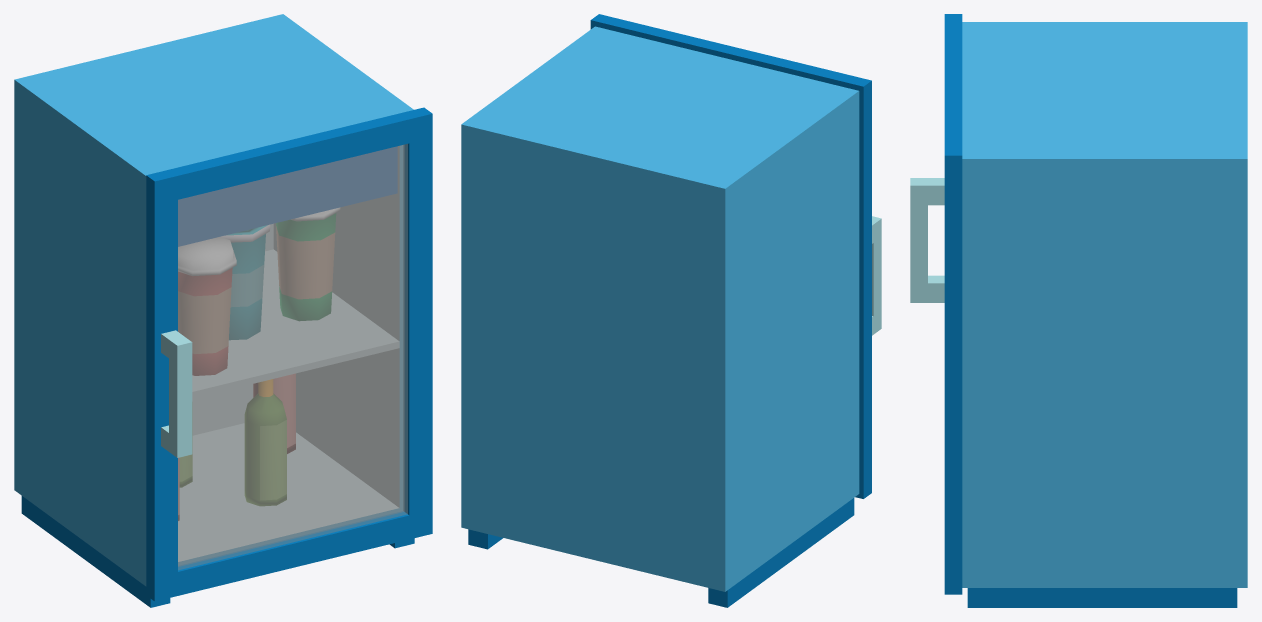
File: Glass Fridge lv1.fbx
3 renders of one model, left to right at view 1: azimuth 30°, elevation 25°; view 2: azimuth 150°, elevation 25°; view 3: azimuth 270°, elevation 25°, orthographic. The views are drawn at different scales.
Visible parts, largest first — view 1: Glass_Fridge_lv1; view 2: Glass_Fridge_lv1; view 3: Glass_Fridge_lv1.
Boxes of the visible parts, bbox=[...] form: Glass_Fridge_lv1: bbox=[14, 14, 432, 607]; Glass_Fridge_lv1: bbox=[461, 14, 881, 607]; Glass_Fridge_lv1: bbox=[910, 14, 1247, 607].
Bounding box in the file's own units: 113 × 169 × 113.
